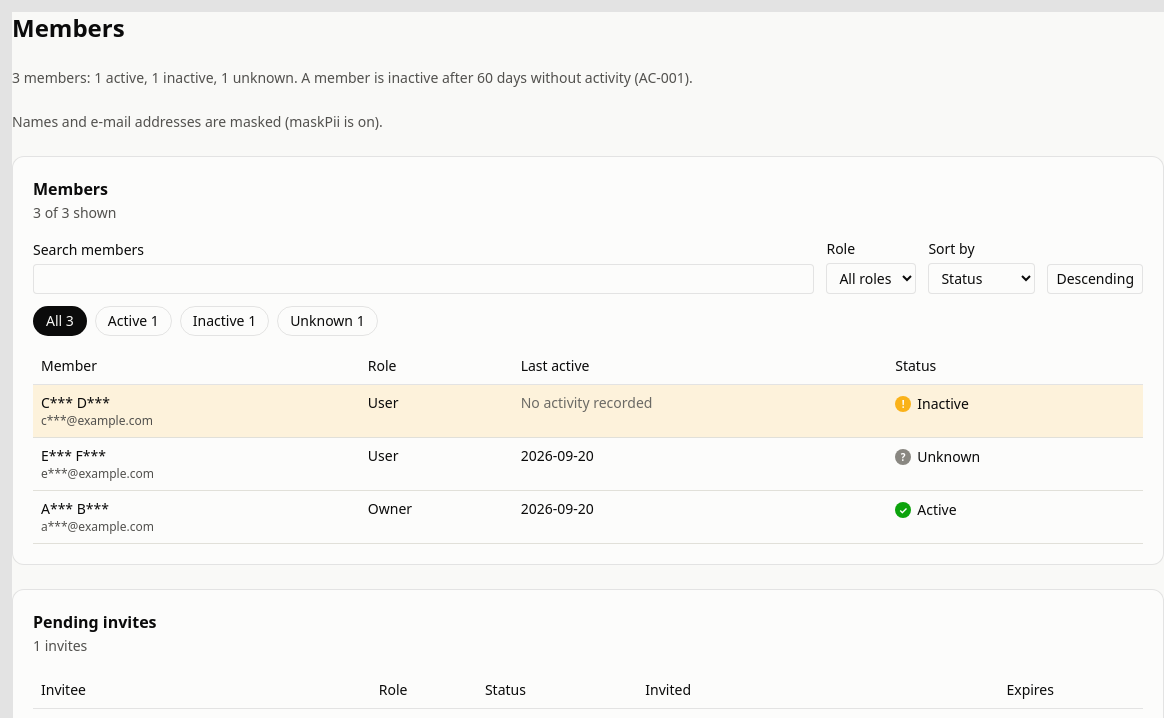
Test: Members page › sorts and reverses the order
Expected: the table named "Members" is shown, [33, 348, 1143, 544]
Step 1. Select "Name" in the dropdown labelled "Sort by" → (982, 278), box [928, 263, 1035, 294]
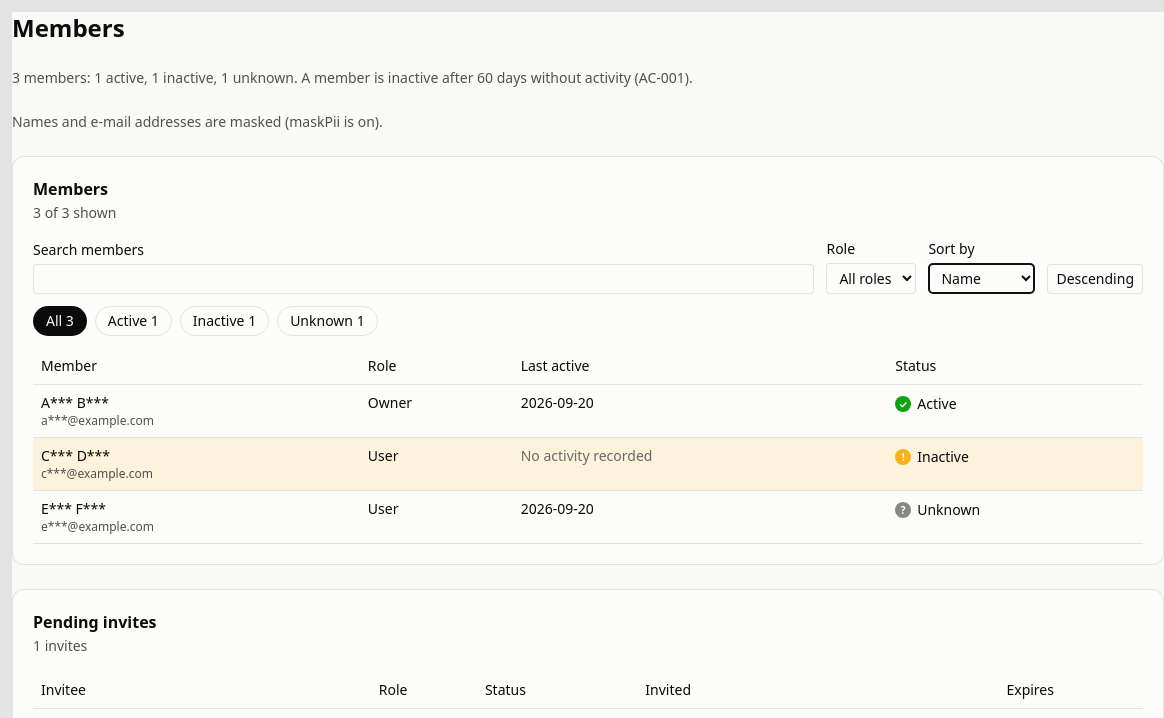
Expected: the column heading "A*** B*** a***@example.com" is shown, [33, 385, 360, 438]
Step 2. Click the button "Descending" → (1095, 279), box [1047, 264, 1143, 294]
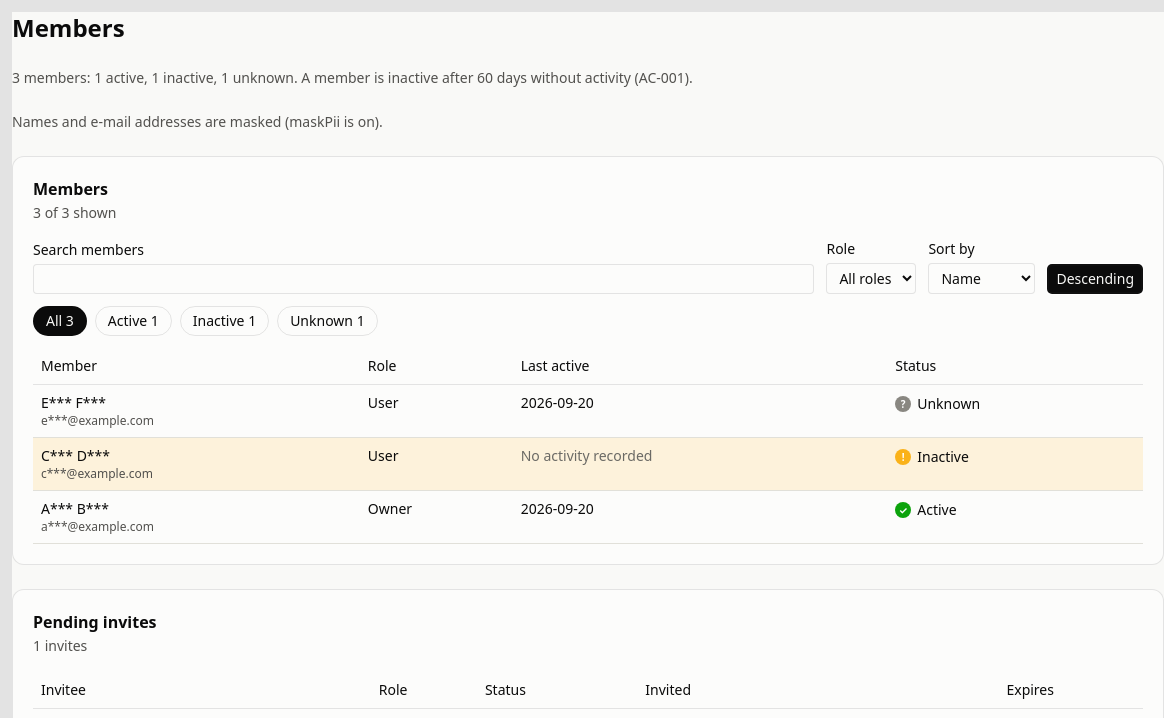
Expected: the column heading "E*** F*** e***@example.com" is shown, [33, 385, 360, 438]
Expected: the button "Descending" is pressed, [1047, 264, 1143, 294]
